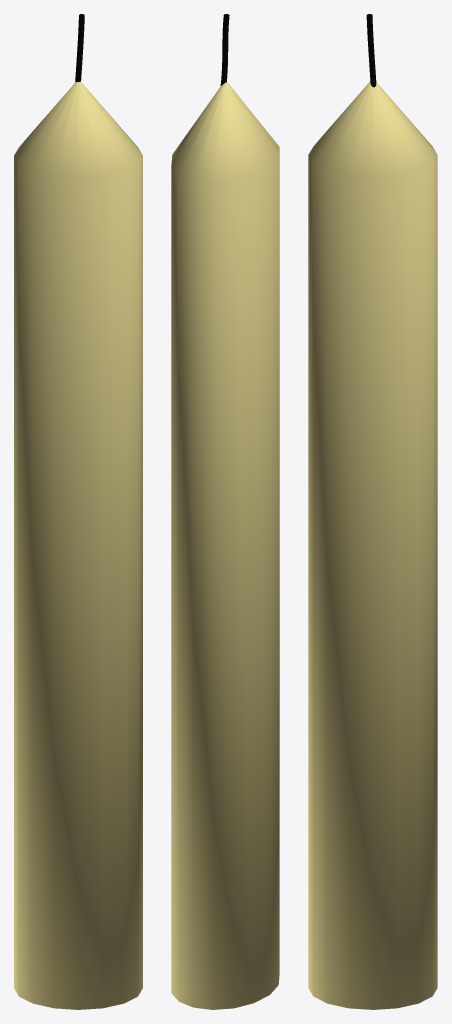
File: bougie.fbx
3 renders of one model, left to right at view 1: azimuth 90°, elevation 25°; view 2: azimuth 150°, elevation 25°; view 3: azimuth 270°, elevation 25°, orthographic.
Parts seen in each view (by area): view 1: Bougie, Mèche; view 2: Bougie, Mèche; view 3: Bougie, Mèche.
Boxes of the visible parts, x1,y1,x2,y2 form: Bougie: [14, 81, 142, 1009]; Mèche: [75, 14, 84, 82]; Bougie: [171, 82, 279, 1009]; Mèche: [220, 14, 229, 85]; Bougie: [308, 81, 437, 1009]; Mèche: [366, 14, 376, 87].
Size of the model in its own units: 47.57 by 496 by 59.56.
